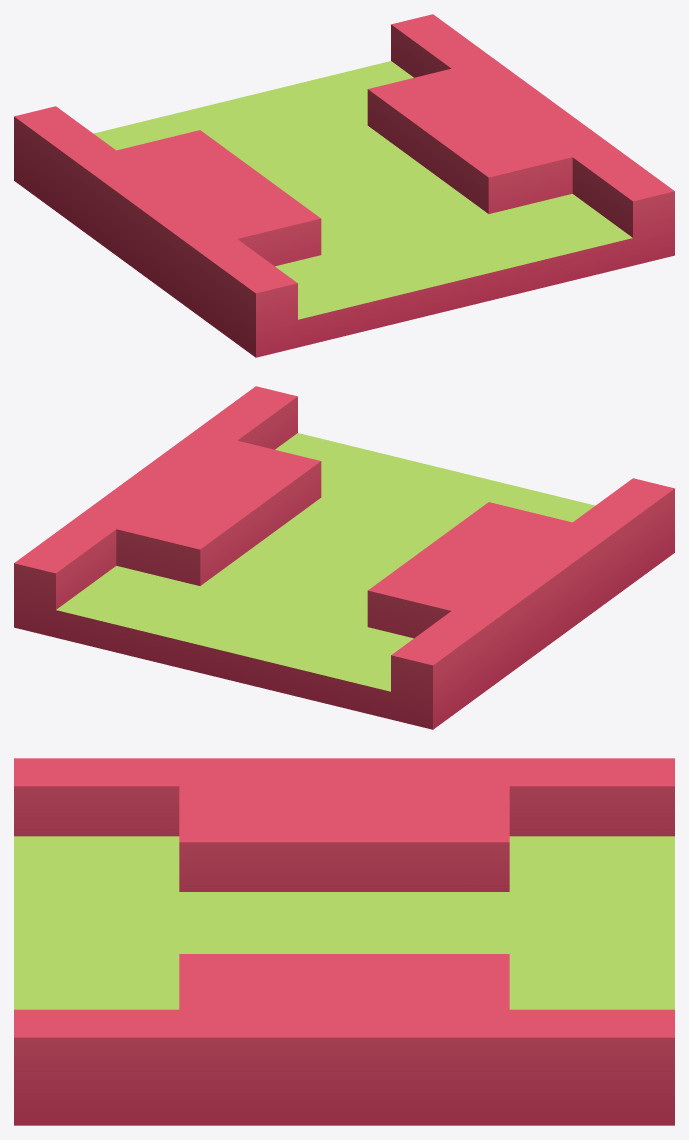
File: narrow-block.gltf
The picture shows the model from 3 angles, top to bottom: view 1: azimuth 30°, elevation 25°; view 2: azimuth 150°, elevation 25°; view 3: azimuth 270°, elevation 25°; orthographic projection. The views are drawn at different scales.
Visible parts, largest first — view 1: narrow-block; view 2: narrow-block; view 3: narrow-block.
Part boxes in pixels (x1=…): narrow-block: x1=14, y1=14, x2=674, y2=357; narrow-block: x1=14, y1=386, x2=674, y2=729; narrow-block: x1=14, y1=758, x2=674, y2=1125.
Bounding box in the file's own units: 0.9999 × 0.1467 × 0.9999.
Materials: 1 (1 with a texture image).
